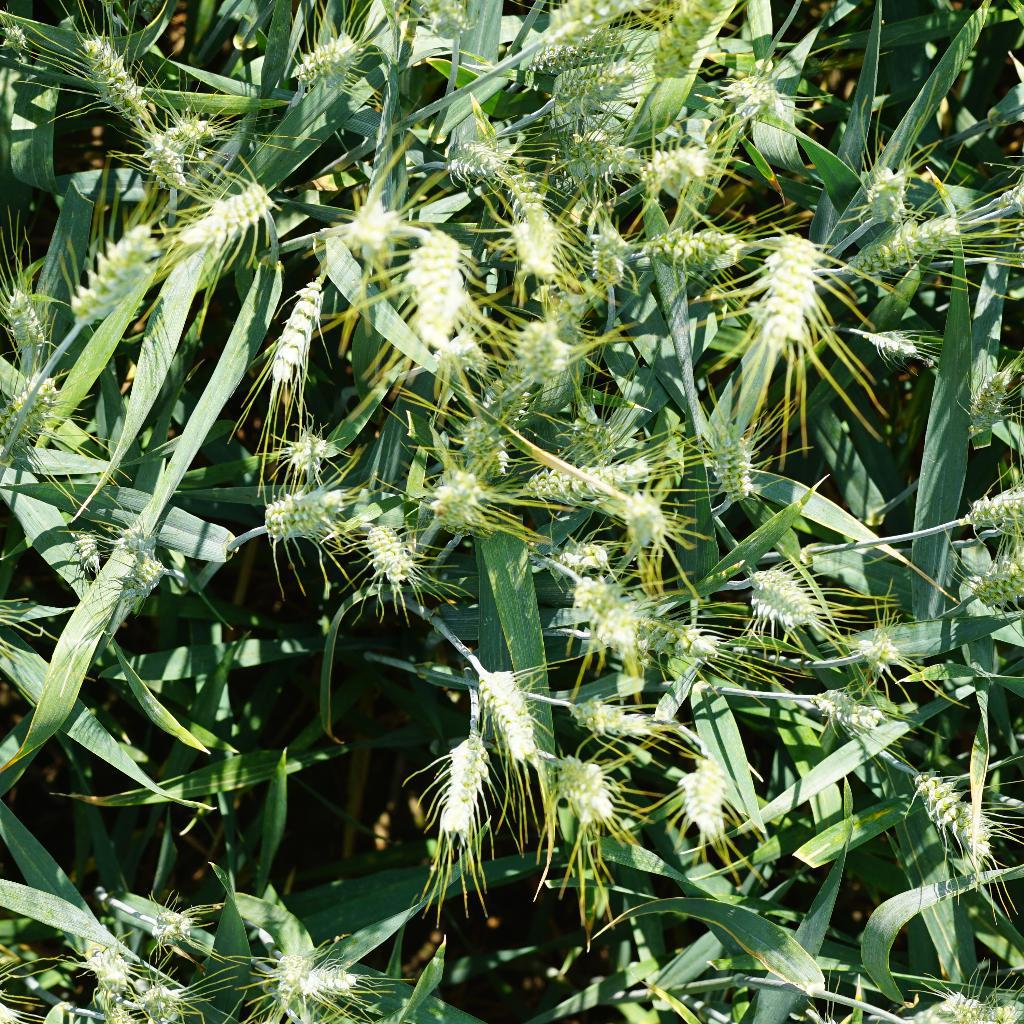0-0: (29, 202, 163, 324), (249, 261, 351, 403), (746, 210, 833, 372), (519, 433, 684, 496), (920, 762, 1002, 877), (62, 29, 152, 130), (123, 96, 224, 186), (178, 178, 292, 257), (637, 2, 734, 93), (538, 0, 690, 58), (440, 709, 496, 856), (492, 178, 571, 279), (847, 309, 950, 385), (664, 751, 744, 848), (477, 662, 545, 772), (613, 594, 724, 661), (399, 234, 473, 333), (563, 673, 661, 743), (737, 559, 825, 636), (519, 564, 619, 630), (539, 51, 634, 119), (531, 115, 645, 171), (638, 208, 747, 266), (706, 415, 769, 515), (859, 213, 972, 268), (567, 755, 635, 844), (724, 64, 802, 137), (0, 366, 68, 447), (0, 280, 55, 380), (950, 359, 1021, 436), (646, 135, 722, 206), (277, 27, 363, 89), (414, 459, 486, 531), (365, 516, 426, 597), (799, 686, 893, 737), (277, 953, 363, 1008), (534, 519, 612, 579), (447, 402, 519, 467), (946, 477, 1024, 534), (575, 212, 630, 292), (83, 941, 145, 1010), (251, 485, 333, 537), (257, 423, 342, 473), (64, 516, 118, 594), (509, 311, 580, 370), (433, 127, 515, 178), (828, 636, 915, 681), (864, 153, 919, 219), (116, 549, 180, 605), (613, 493, 673, 552), (98, 504, 160, 560), (653, 621, 729, 666), (967, 555, 1024, 613), (159, 897, 208, 959), (127, 977, 191, 1024), (0, 14, 35, 83), (421, 0, 475, 43), (346, 189, 388, 243), (447, 325, 488, 373)
